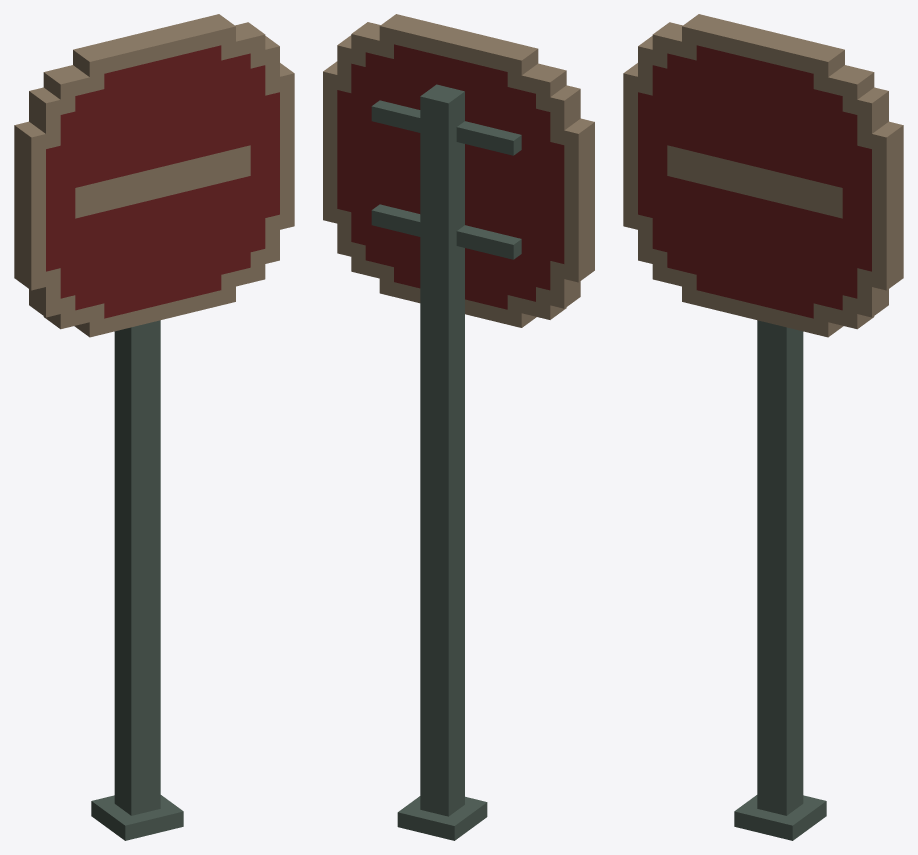
The model's file is Free Sample-7-RoadSign-64.obj.
The picture shows the model from 3 angles, left to right: view 1: azimuth 30°, elevation 25°; view 2: azimuth 150°, elevation 25°; view 3: azimuth 330°, elevation 25°; orthographic projection. The views are drawn at different scales.
Parts seen in each view (by area): view 1: RoadSign-64; view 2: RoadSign-64; view 3: RoadSign-64.
Part boxes in pixels (bbox=[...]): RoadSign-64: bbox=[14, 14, 294, 840]; RoadSign-64: bbox=[323, 14, 594, 840]; RoadSign-64: bbox=[623, 14, 903, 840].
Size of the model in its own units: 0.36 by 1.04 by 0.1.
Materials: 1 (1 with a texture image).
